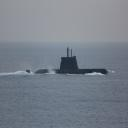submarine: (27, 47, 109, 74)
